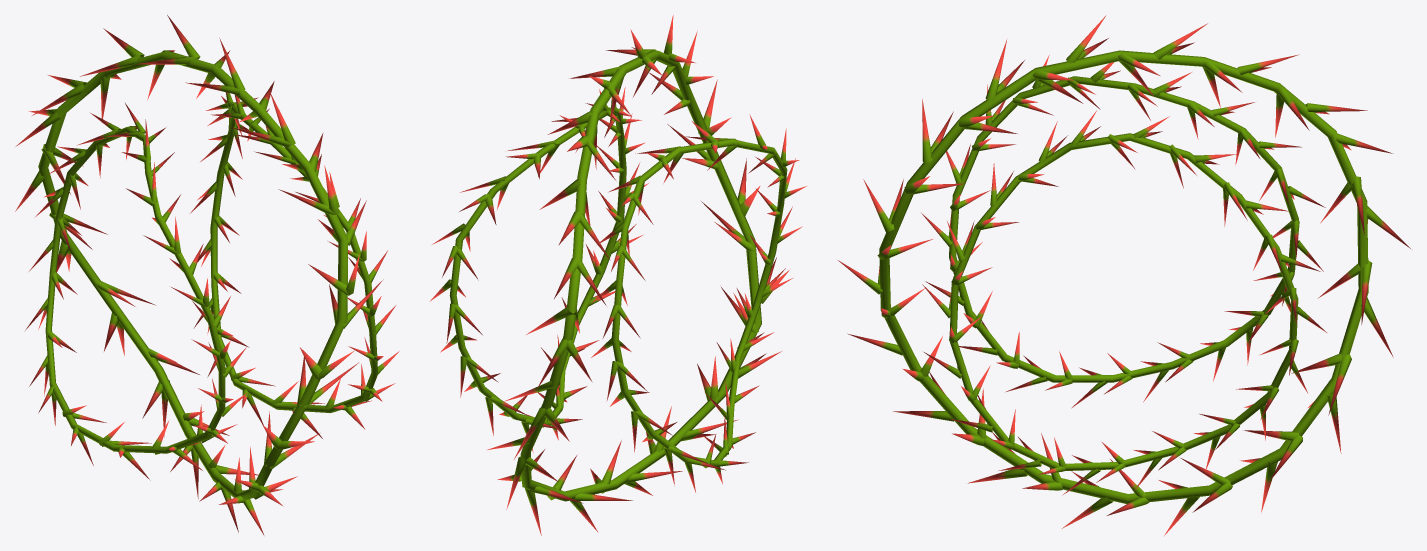
File: SM_Throns_Projectile.fbx
The picture shows the model from 3 angles, left to right: view 1: azimuth 30°, elevation 25°; view 2: azimuth 150°, elevation 25°; view 3: azimuth 270°, elevation 25°; orthographic projection. The views are drawn at different scales.
Parts seen in each view (by area): view 1: SM_Throns_Projectile; view 2: SM_Throns_Projectile; view 3: SM_Throns_Projectile.
Part boxes in pixels (x1,y1,x2,y2): SM_Throns_Projectile: [15, 15, 399, 535]; SM_Throns_Projectile: [429, 15, 806, 535]; SM_Throns_Projectile: [838, 15, 1410, 535].
Bounding box in the file's own units: 225 × 399 × 400.
1 material, 1 textured.
